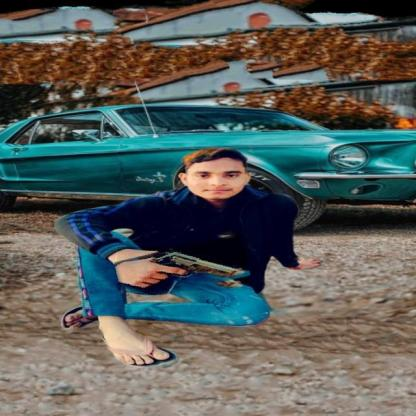handgun: (116, 240, 249, 298)
